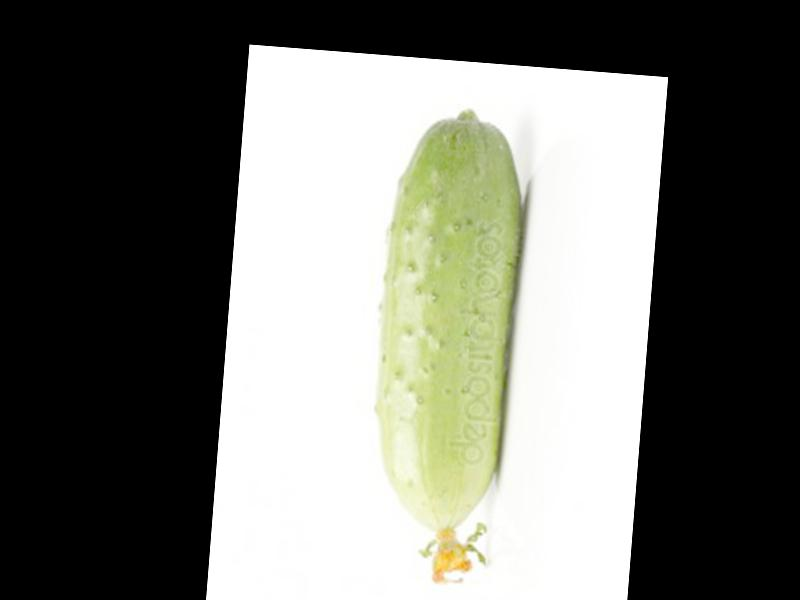Cucumber: (360, 102, 533, 585)
